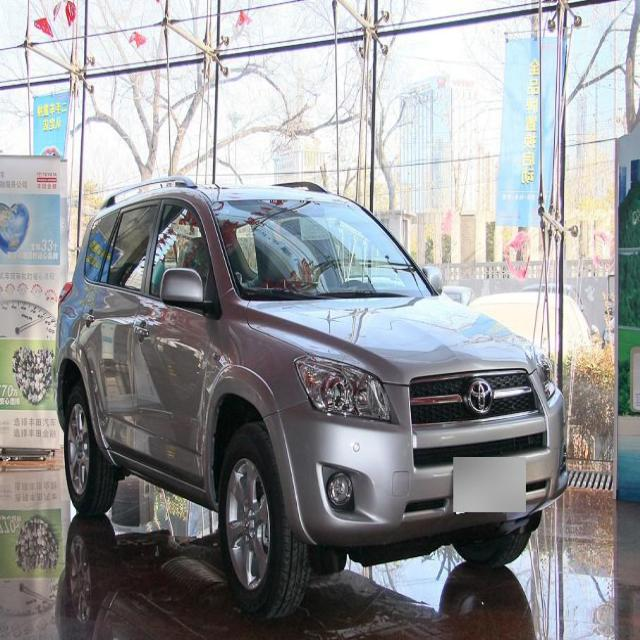back_right_side_light: (56, 281, 74, 311)
door: (100, 198, 166, 442)
front_bumper: (262, 386, 568, 548)
front_glass: (210, 197, 436, 302)
front_left_side_light: (534, 346, 558, 402)
front_left_side_mirror: (423, 263, 444, 294)
front_right_side_door: (130, 195, 214, 494)
front_right_side_light: (293, 352, 393, 425)
front_right_side_mirror: (160, 267, 207, 310)
wheel: (217, 419, 311, 620), (63, 386, 117, 514)
